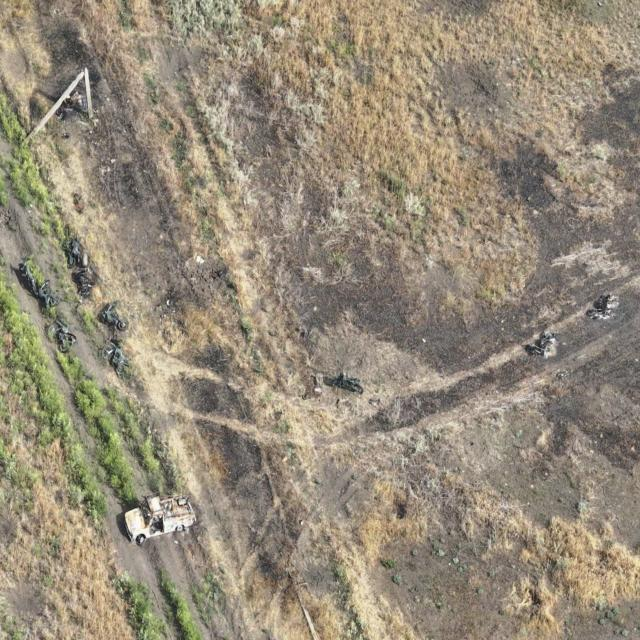vehicle: (125, 490, 195, 543), (587, 285, 625, 324), (524, 324, 559, 360), (324, 371, 363, 398), (99, 302, 129, 330), (18, 254, 40, 292), (63, 235, 88, 268), (39, 277, 60, 315), (51, 324, 76, 354), (104, 340, 126, 374), (72, 272, 97, 299)
